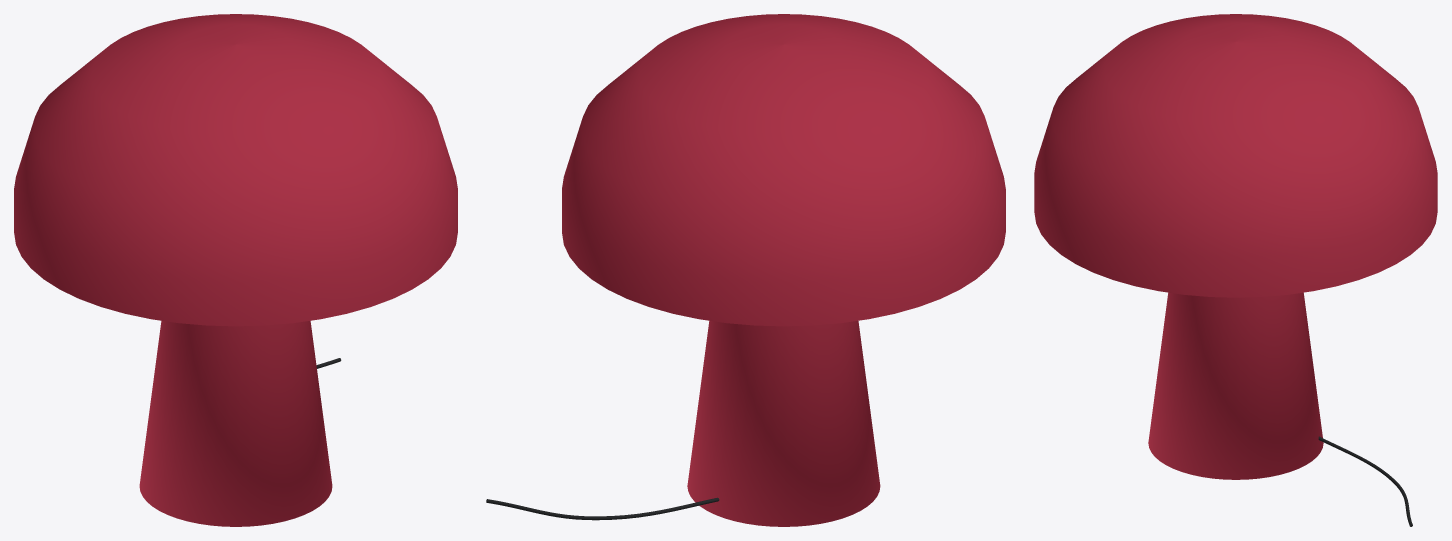
Rendered from ref01_01.glb.
The picture shows the model from 3 angles, left to right: view 1: azimuth 30°, elevation 25°; view 2: azimuth 150°, elevation 25°; view 3: azimuth 270°, elevation 25°; orthographic projection. The views are drawn at different scales.
Parts seen in each view (by area): view 1: ref01_01; view 2: ref01_01; view 3: ref01_01.
Part boxes in pixels (x1,y1,x2,y2): ref01_01: (14, 14, 457, 526); ref01_01: (486, 14, 1005, 526); ref01_01: (1034, 14, 1437, 526).
Bounding box in the file's own units: 0.4703 × 0.505 × 0.46.
